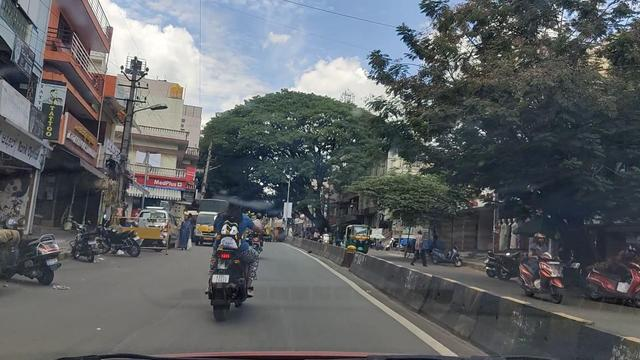LMV: (202, 193, 258, 317)
